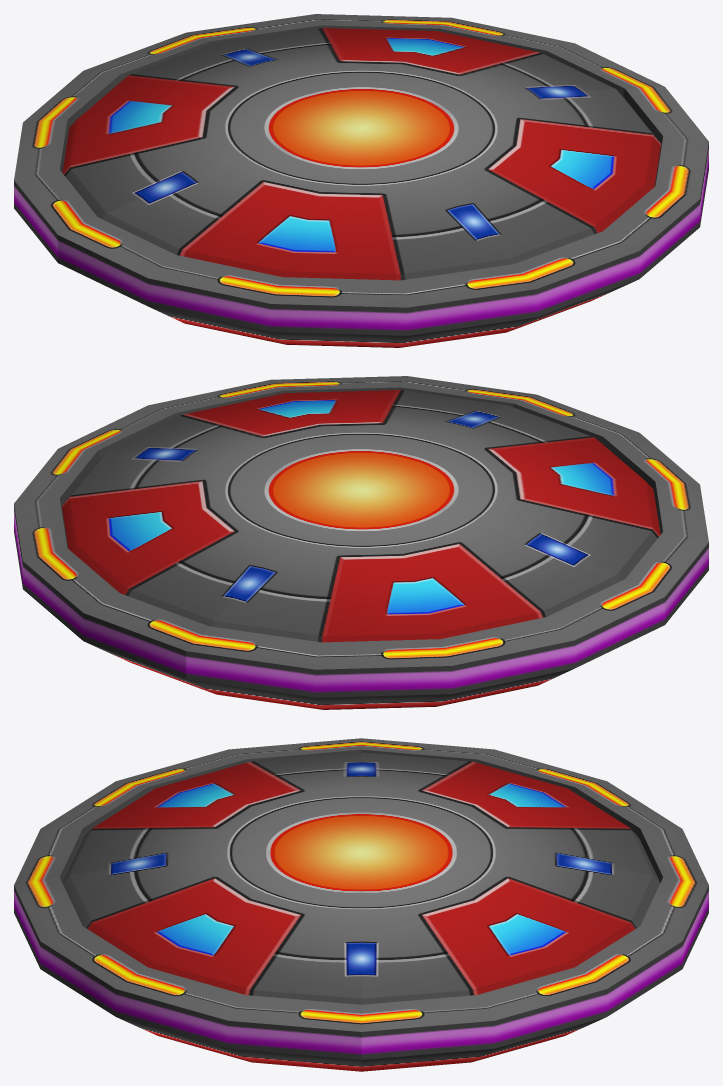
Rendered from UFO_Hoverboard_Item.fbx.
3 renders of one model, top to bottom at view 1: azimuth 30°, elevation 25°; view 2: azimuth 150°, elevation 25°; view 3: azimuth 270°, elevation 25°, orthographic.
Visible parts, largest first — view 1: UFO_Hoverboard_Item; view 2: UFO_Hoverboard_Item; view 3: UFO_Hoverboard_Item.
Boxes of the visible parts, bbox=[...] form: UFO_Hoverboard_Item: bbox=[14, 14, 708, 347]; UFO_Hoverboard_Item: bbox=[14, 376, 708, 709]; UFO_Hoverboard_Item: bbox=[14, 738, 708, 1071].
Size of the model in its own units: 53.64 by 13.77 by 53.64.
